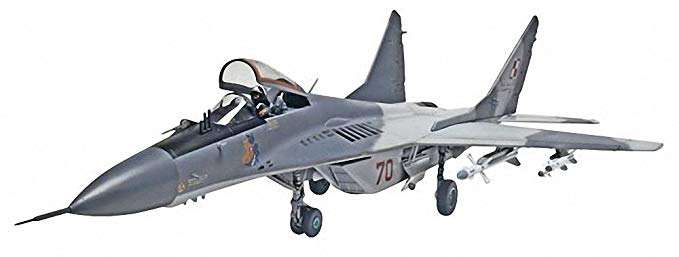Mig-29: (61, 7, 636, 243)
